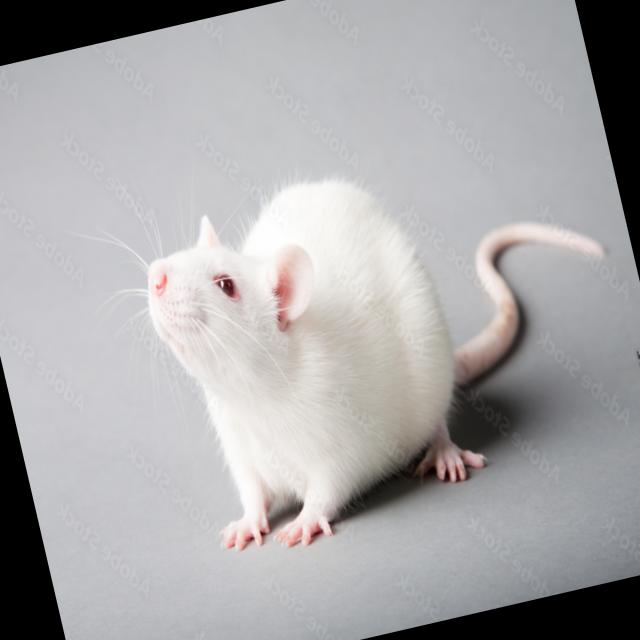rodents: (100, 140, 498, 573)
